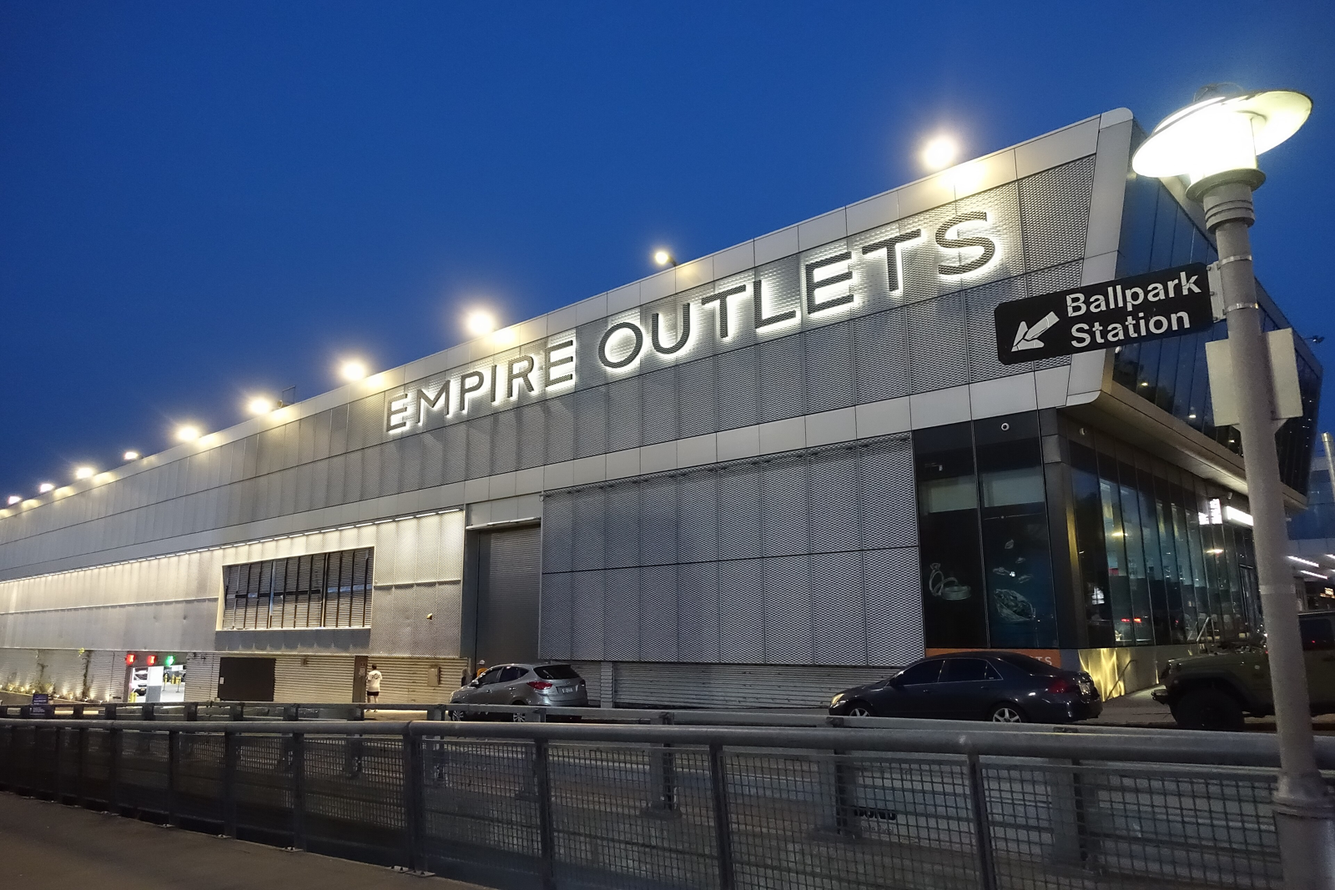fachada: (0, 113, 1295, 657)
poste: (1126, 67, 1335, 880)
